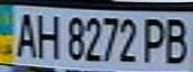2: (118, 15, 142, 64), (81, 12, 103, 62)
7: (100, 13, 121, 64)
8: (63, 11, 87, 62)
A: (9, 9, 39, 58)
B: (160, 15, 193, 65)
H: (33, 10, 63, 60)
P: (139, 15, 172, 64)
